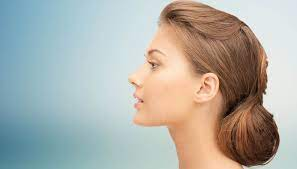n.sharp: (127, 64, 150, 86)
